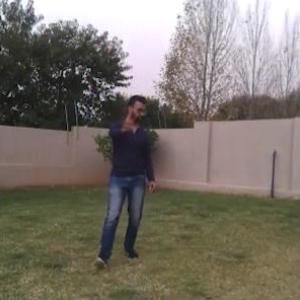takeoff-hand: (115, 113, 137, 141)
